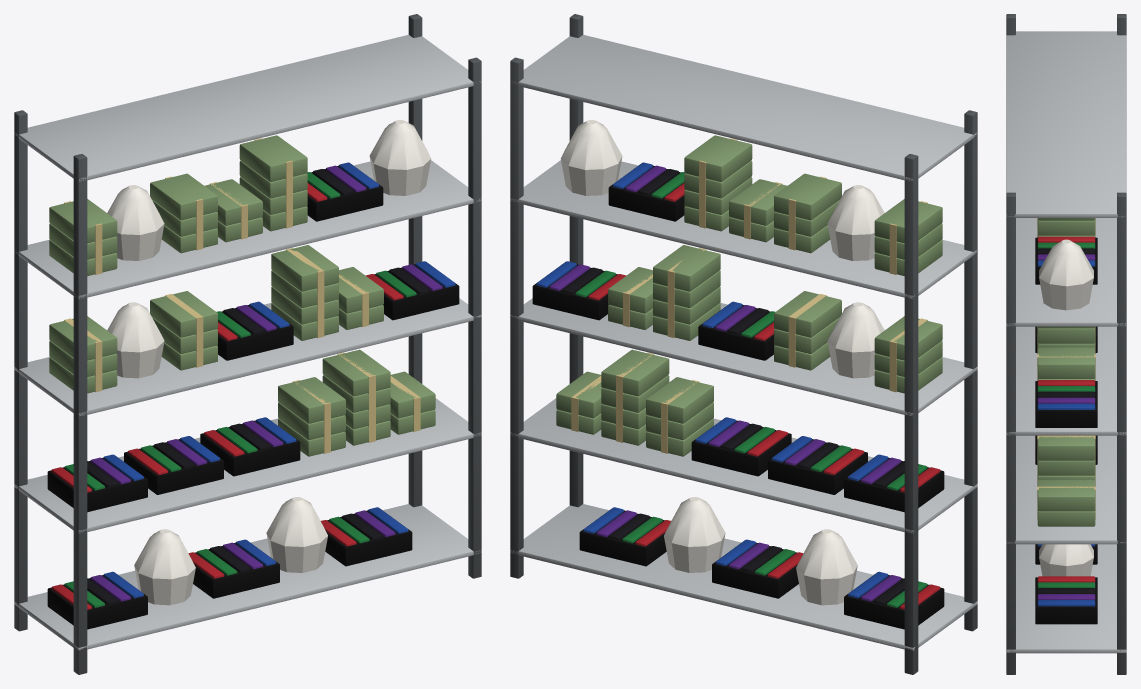
File: tideline_vault_shelves.glb
3 renders of one model, left to right at view 1: azimuth 30°, elevation 25°; view 2: azimuth 150°, elevation 25°; view 3: azimuth 270°, elevation 25°, orthographic. The views are drawn at different scales.
Visible parts, largest first — view 1: tideline_vault_shelves; view 2: tideline_vault_shelves; view 3: tideline_vault_shelves.
Boxes of the visible parts, x1,y1,x2,y2 form: tideline_vault_shelves: (14, 14, 481, 674); tideline_vault_shelves: (510, 14, 977, 674); tideline_vault_shelves: (1006, 14, 1126, 674).
Bounding box in the file's own units: 1.8 × 2.2 × 0.5.
